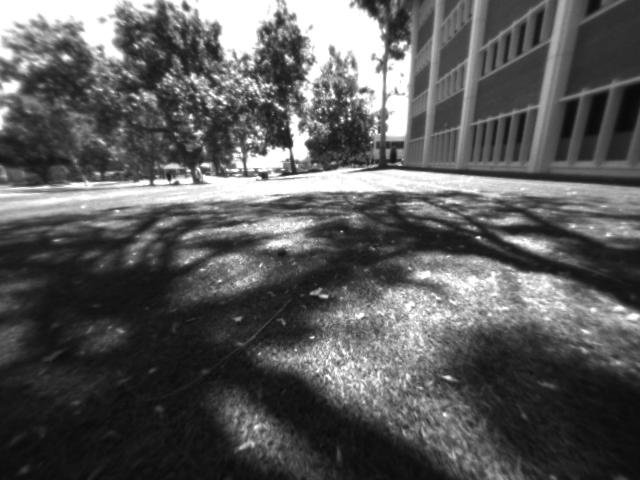dogtoy: (268, 240, 298, 262)
